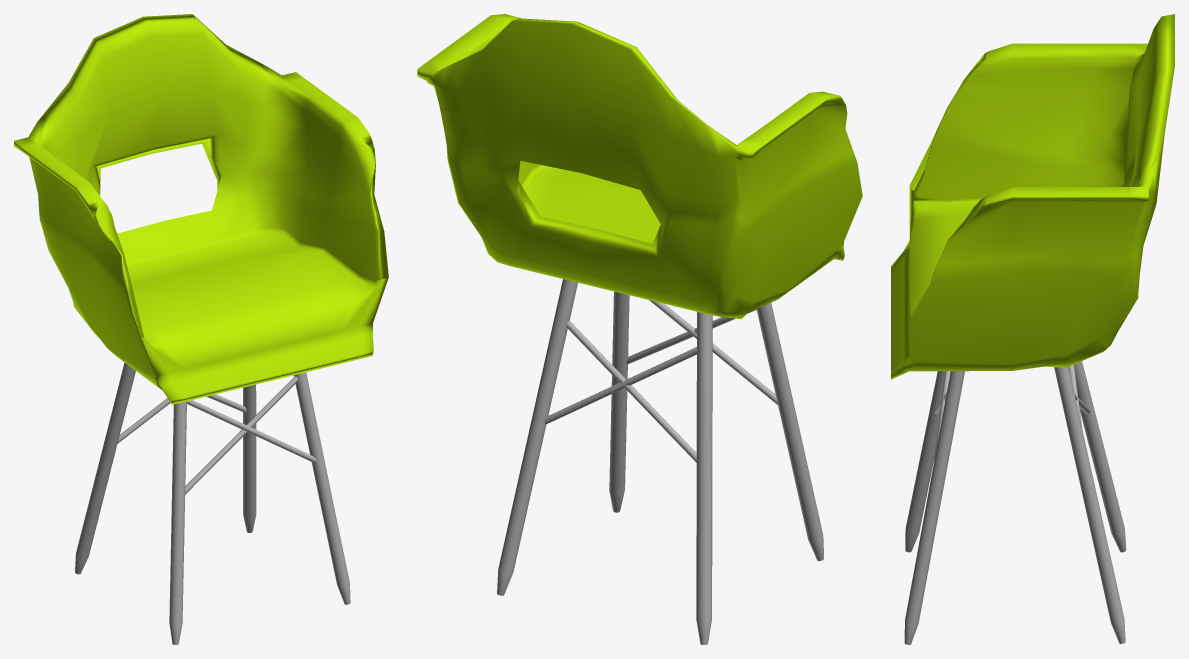
File: chair_green.fbx
3 views of the same model, side by side, from view 1: azimuth 30°, elevation 25°; view 2: azimuth 150°, elevation 25°; view 3: azimuth 270°, elevation 25° (orthographic). The views are drawn at different scales.
Parts seen in each view (by area): view 1: cafechair; view 2: cafechair; view 3: cafechair.
Boxes of the visible parts, x1,y1,x2,y2 form: cafechair: (14, 14, 388, 644); cafechair: (417, 14, 862, 644); cafechair: (891, 14, 1174, 644).
Size of the model in its own units: 3.66 by 6.44 by 2.91.
